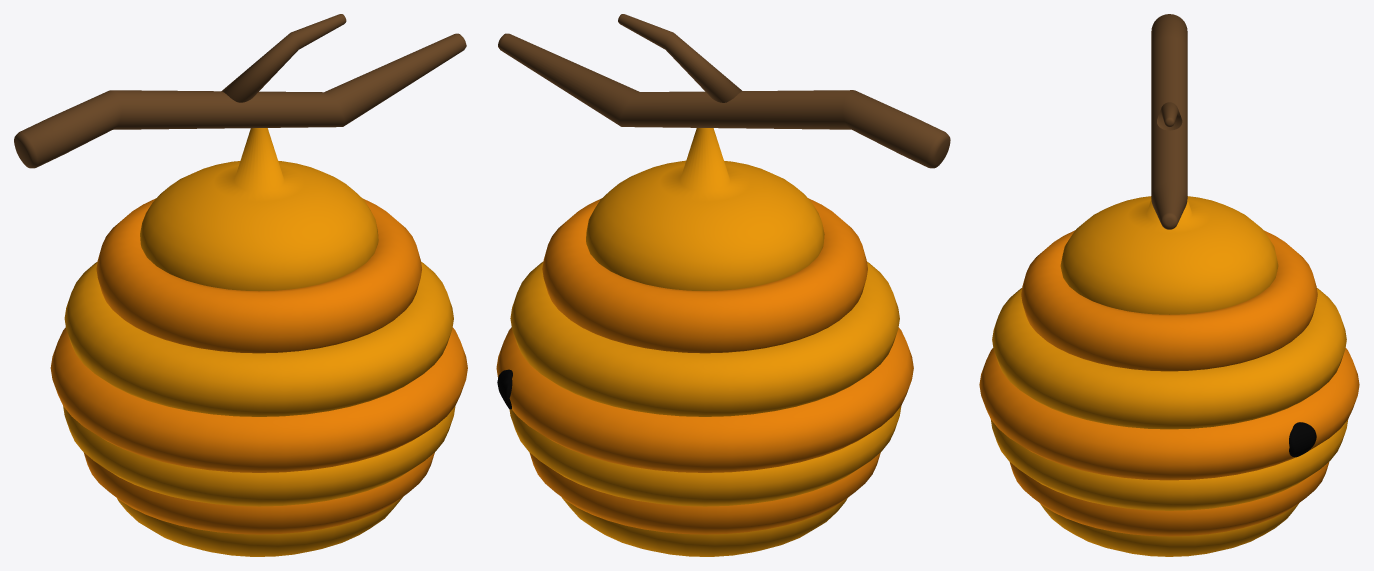
3 views of the same model, side by side, from view 1: azimuth 30°, elevation 25°; view 2: azimuth 150°, elevation 25°; view 3: azimuth 270°, elevation 25° (orthographic). The views are drawn at different scales.
Parts seen in each view (by area): view 1: Sphere.039, Torus.013, branch.001; view 2: Sphere.039, Torus.013, branch.001; view 3: Sphere.039, Torus.013, branch.001, Cylinder.039.
Boxes of the visible parts, left/top/right/bottom form: Sphere.039: left=63, top=128, right=455, bottom=556; Torus.013: left=50, top=198, right=467, bottom=534; branch.001: left=14, top=14, right=466, bottom=168; Sphere.039: left=509, top=128, right=901, bottom=556; Torus.013: left=496, top=198, right=913, bottom=534; branch.001: left=498, top=14, right=950, bottom=168; Sphere.039: left=991, top=196, right=1347, bottom=556; Torus.013: left=979, top=230, right=1359, bottom=536; branch.001: left=1151, top=14, right=1187, bottom=229; Cylinder.039: left=1289, top=422, right=1316, bottom=457.
Size of the model in its own units: 3.76 by 4 by 3.05.
